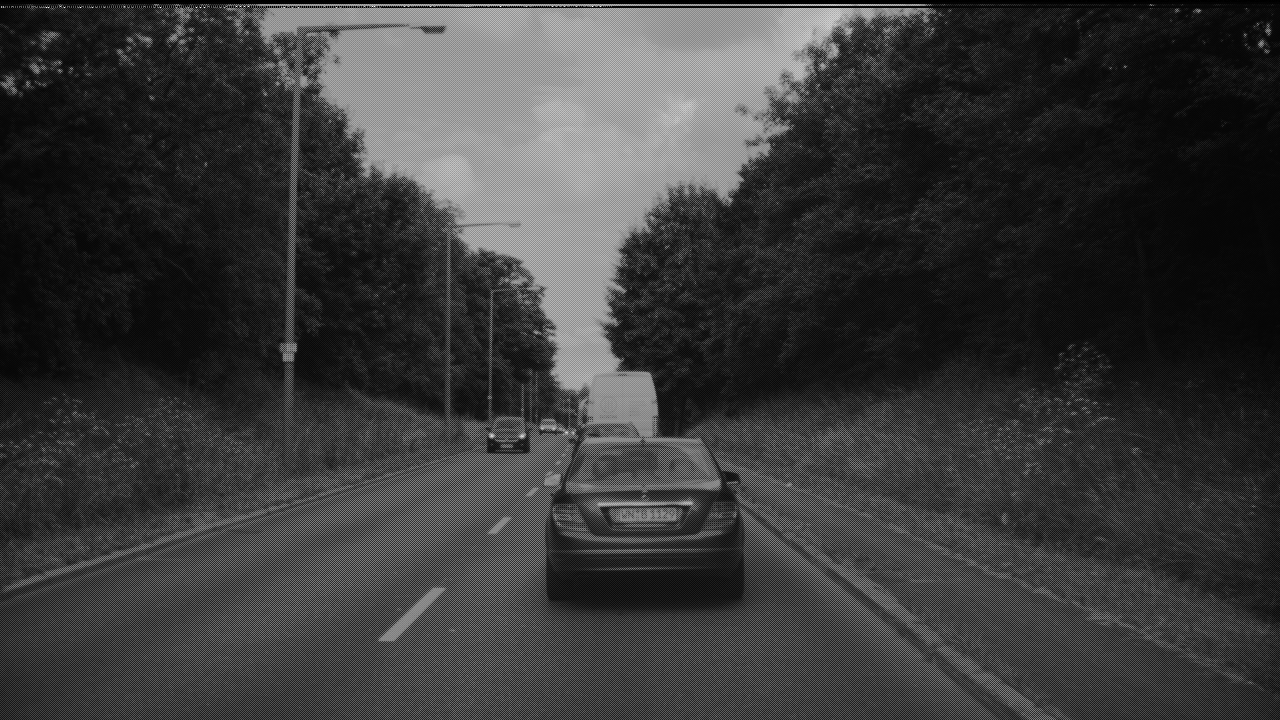pole: (281, 28, 303, 445), (444, 221, 451, 430), (488, 284, 496, 421)
